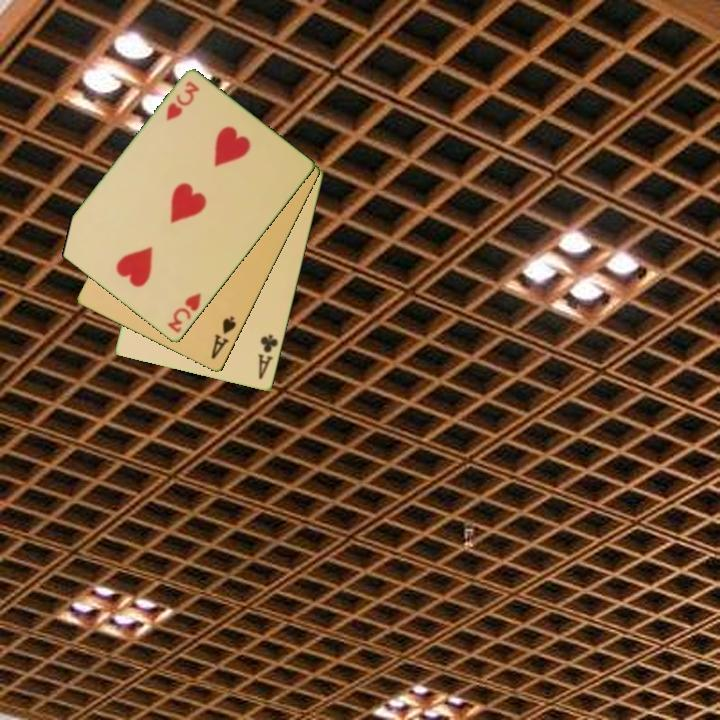3h: (164, 289, 205, 336), (162, 78, 203, 124)
Ac: (255, 332, 281, 383)
As: (207, 313, 239, 362)
